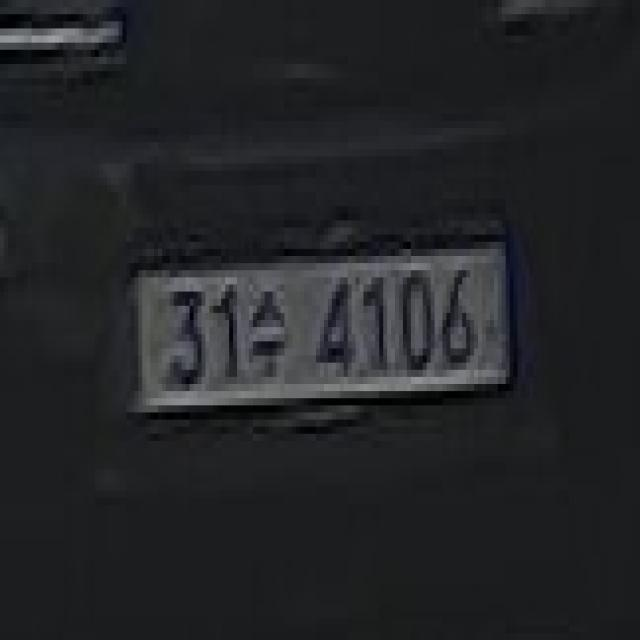0: (399, 263, 435, 370)
1: (209, 277, 245, 398), (360, 270, 391, 377)
3: (166, 277, 205, 391)
4: (308, 270, 356, 384)
6: (435, 263, 478, 370)
license_plate: (131, 235, 514, 420)
su: (245, 292, 288, 384)
